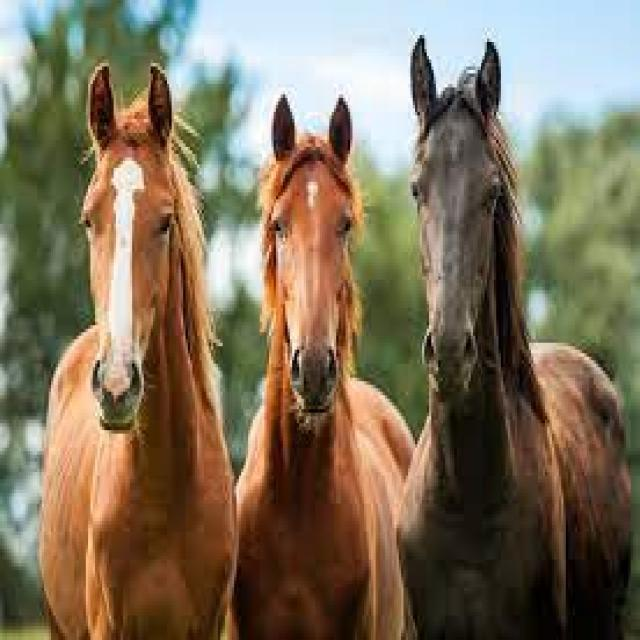horse: (400, 29, 632, 636), (28, 45, 252, 640), (242, 71, 408, 640)
